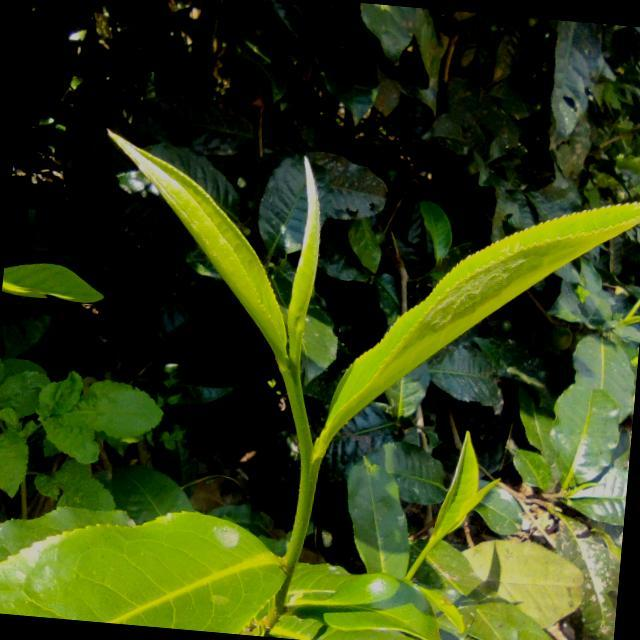Stem: (301, 453, 318, 473)
